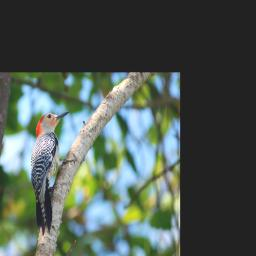Woodpecker: (31, 111, 77, 236)
